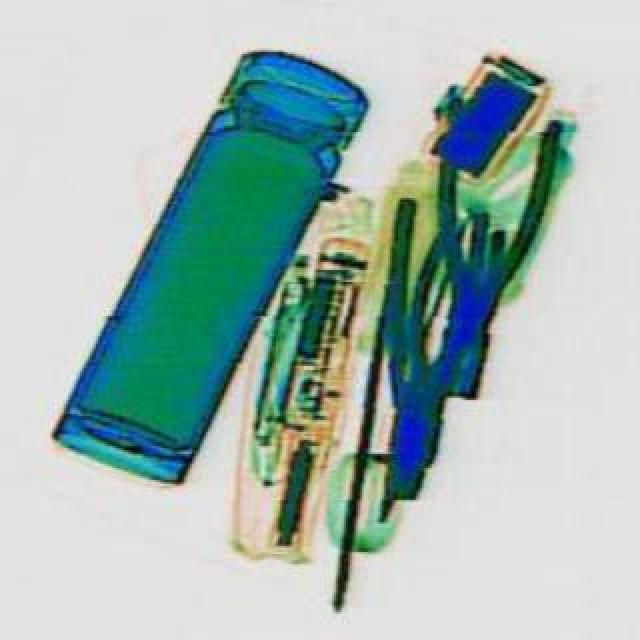wrench: (352, 192, 492, 498), (400, 100, 560, 356)
